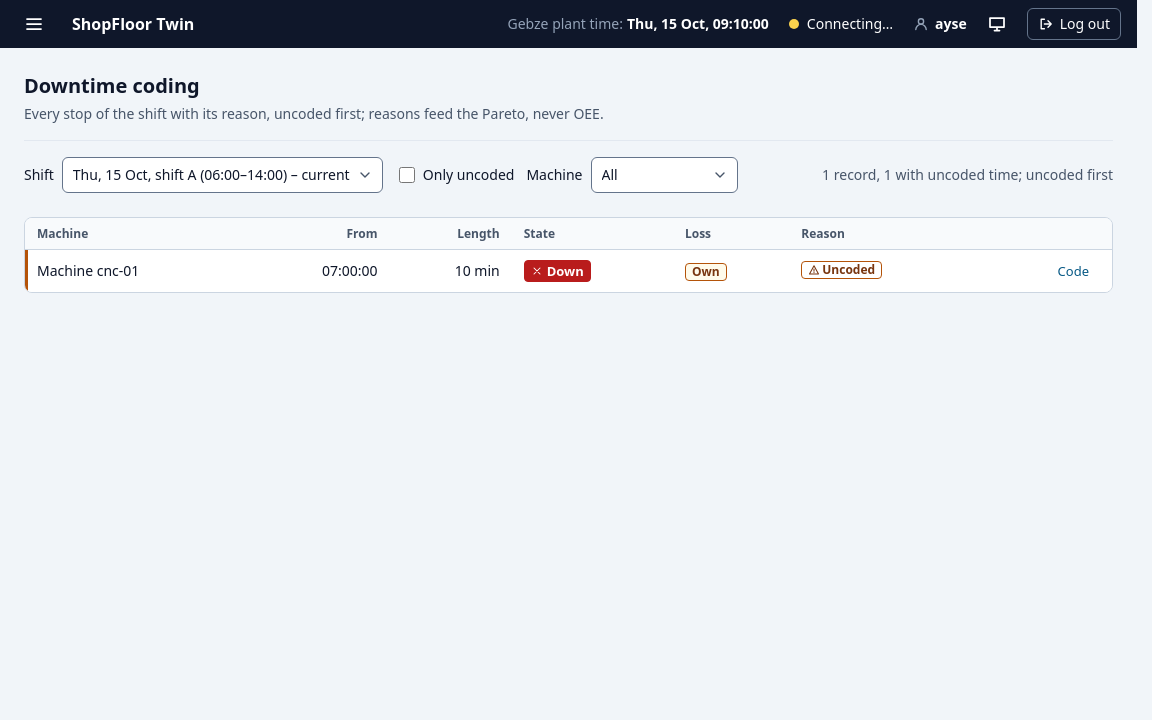
it: downtime coding › shows no "(not authenticated)" for a coding written with a session
This screenshot has width=1152, height=720.
Click the button "Code" at (1073, 271), box [1047, 257, 1100, 285]
(page scrolled)
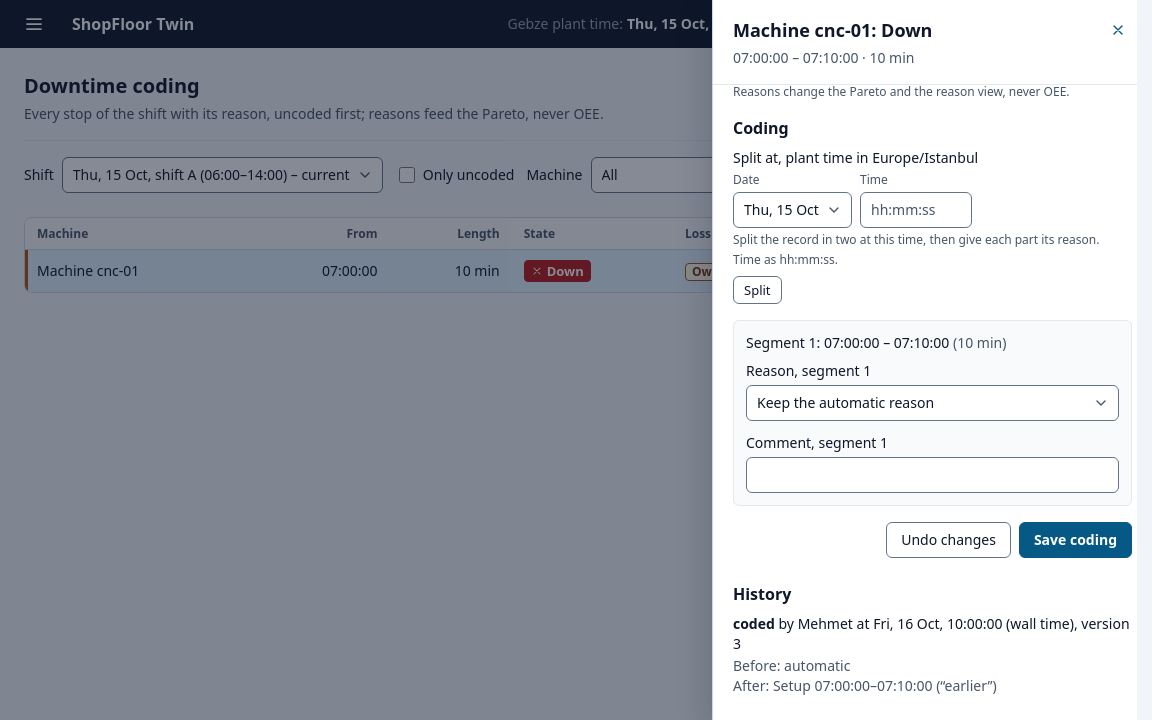
Expected: the list item with test id "audit-entry" shows "by Mehmet at", [733, 614, 1132, 704]
